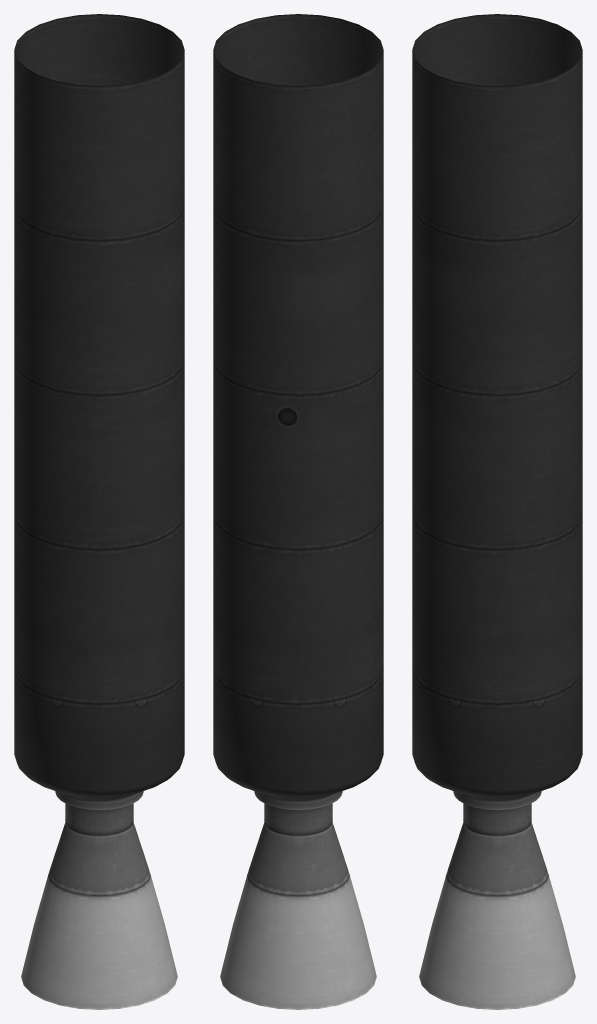
Rendered from black_forest_srb_s0_1.obj.
The picture shows the model from 3 angles, left to right: view 1: azimuth 30°, elevation 25°; view 2: azimuth 150°, elevation 25°; view 3: azimuth 270°, elevation 25°; orthographic projection.
Parts seen in each view (by area): view 1: mesh1, nozzle1; view 2: mesh1, nozzle1; view 3: mesh1, nozzle1.
Part boxes in pixels (x1,y1,x2,y2): mesh1: (14, 14, 184, 810); nozzle1: (21, 803, 177, 1009); mesh1: (213, 14, 383, 810); nozzle1: (220, 803, 376, 1009); mesh1: (412, 14, 582, 810); nozzle1: (419, 803, 575, 1009).
Size of the model in its own units: 0.625 by 3.75 by 0.625.
Materials: 2 (2 with a texture image).
